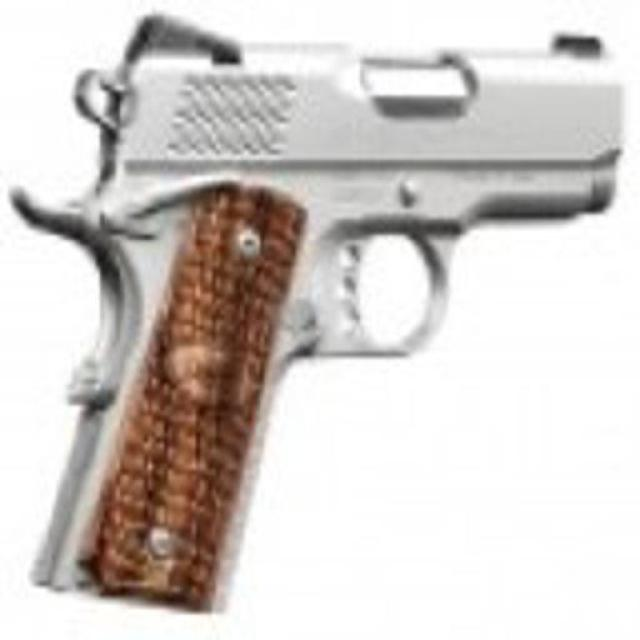pistol: (20, 5, 615, 602)
